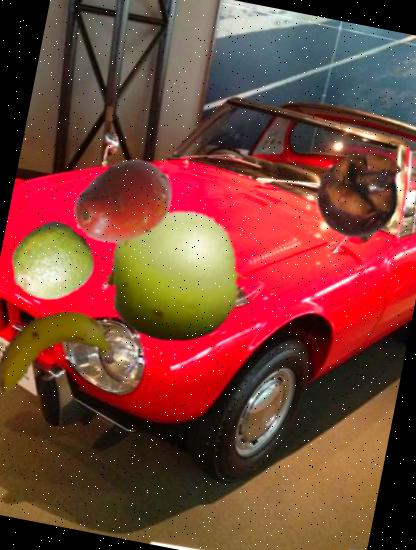Apple: (95, 194, 259, 358)
Banana: (0, 285, 120, 425)
Limes: (2, 214, 98, 310)
Mangostan: (304, 138, 416, 248)
Potato: (62, 142, 184, 264)
